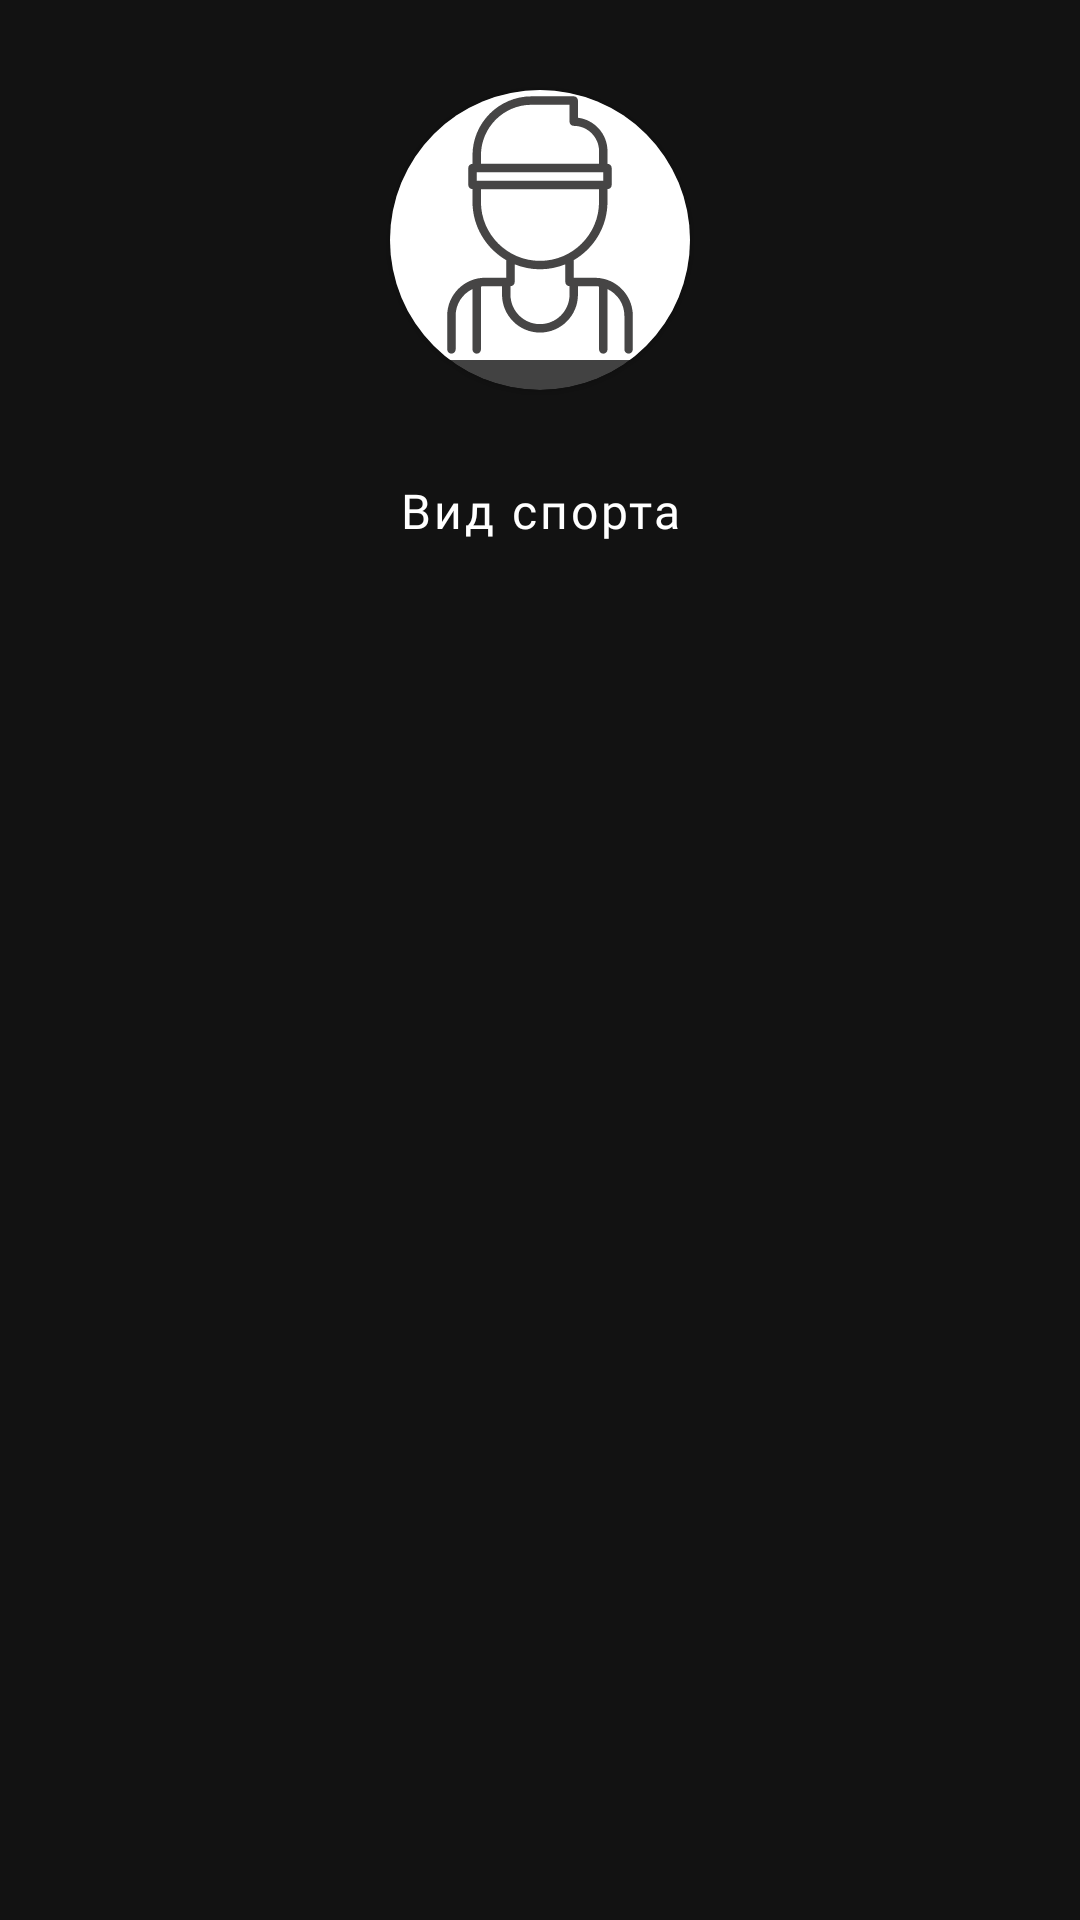

Named icons in this screenshot (1080×1920) and their bounding boxes, (x1, y1, x2, y2):
user: (390, 90, 690, 360)
